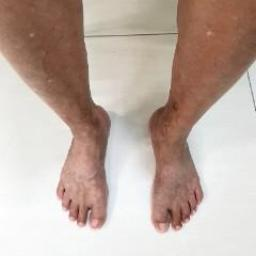Dorsal View -Both Feet-: (40, 90, 223, 248)
